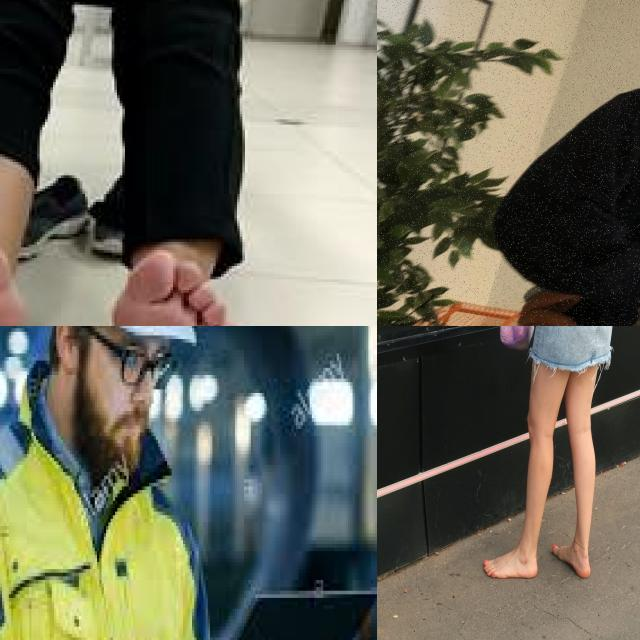Barefoots: (97, 244, 242, 326), (484, 548, 538, 578), (552, 544, 591, 578)
glasses: (92, 326, 178, 393)
person: (0, 326, 286, 640)
